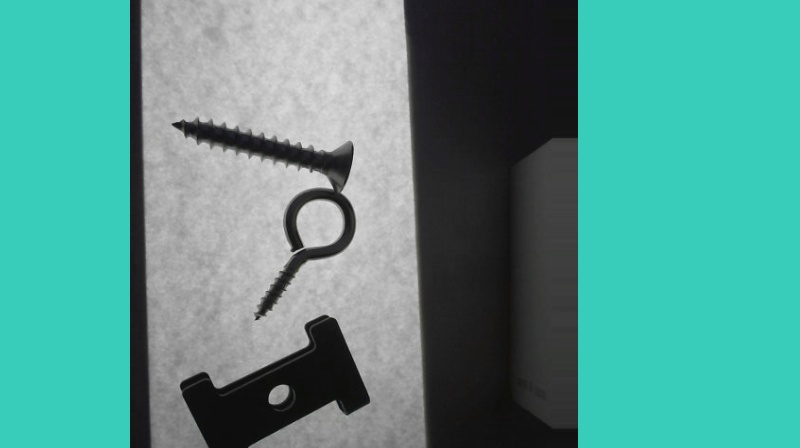O001: (253, 185, 357, 320)
O002: (175, 312, 372, 447)
S001: (170, 113, 360, 193)
